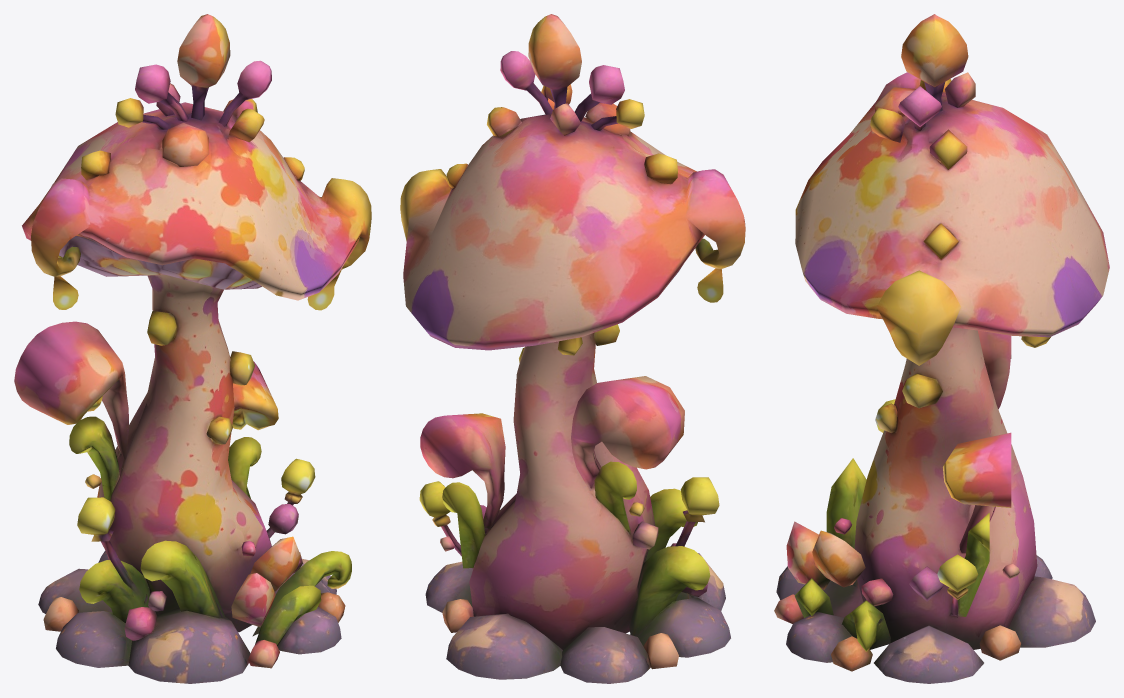
The model's file is alien_mushroom_01.glb.
3 views of the same model, side by side, from view 1: azimuth 30°, elevation 25°; view 2: azimuth 150°, elevation 25°; view 3: azimuth 270°, elevation 25° (orthographic). The views are drawn at different scales.
Parts seen in each view (by area): view 1: tripo_node_a1017d7a-7797-495e-85e7-343f17266ab6; view 2: tripo_node_a1017d7a-7797-495e-85e7-343f17266ab6; view 3: tripo_node_a1017d7a-7797-495e-85e7-343f17266ab6.
Boxes of the visible parts, bbox=[...] form: tripo_node_a1017d7a-7797-495e-85e7-343f17266ab6: bbox=[14, 14, 371, 683]; tripo_node_a1017d7a-7797-495e-85e7-343f17266ab6: bbox=[400, 14, 745, 683]; tripo_node_a1017d7a-7797-495e-85e7-343f17266ab6: bbox=[774, 14, 1109, 683].
Size of the model in its own units: 0.6001 by 0.9995 by 0.4995.
Materials: 1 (1 with a texture image).
